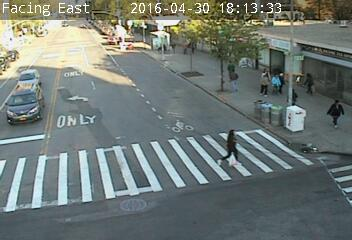neg: (292, 159, 319, 196), (23, 68, 45, 98), (118, 41, 139, 70), (95, 22, 115, 49), (253, 22, 272, 48), (83, 60, 102, 85), (320, 181, 339, 205), (283, 27, 301, 51), (171, 69, 188, 92), (120, 88, 137, 110), (148, 103, 164, 124), (229, 19, 244, 39), (117, 182, 132, 201), (197, 33, 211, 51), (276, 180, 289, 198), (50, 87, 63, 104), (55, 135, 68, 152), (74, 35, 86, 51), (168, 136, 180, 151), (182, 196, 193, 212), (65, 13, 76, 28), (77, 100, 86, 112), (123, 145, 129, 154), (236, 198, 242, 205)
pos: (215, 127, 247, 170), (323, 94, 351, 133), (271, 68, 290, 93), (224, 68, 242, 93), (255, 73, 273, 97), (302, 70, 317, 90), (284, 83, 298, 102), (269, 72, 283, 91), (224, 59, 237, 76), (258, 67, 270, 83), (168, 39, 179, 54)
